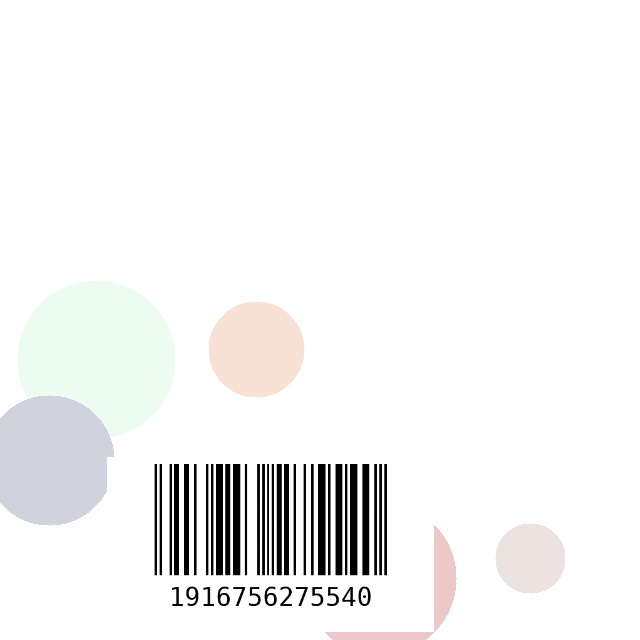barcode: (107, 457, 434, 632)
